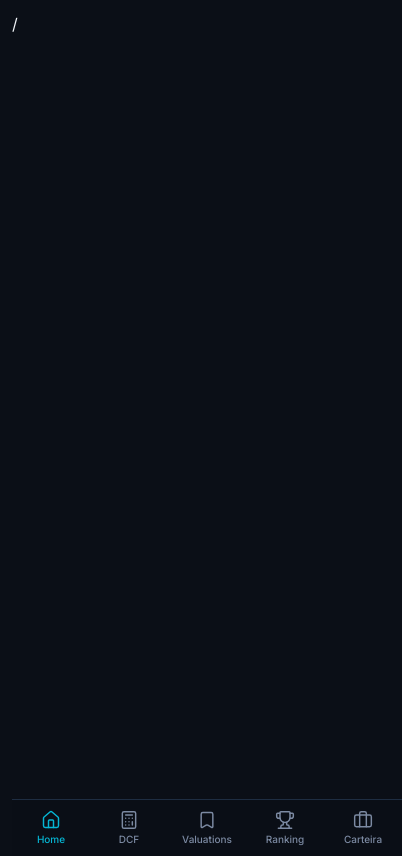
Test: BottomNav › Ranking abre o popover em vez de navegar
Expected: the link "FIIs" is not shown
Click the button "Ranking" at (285, 828), box [246,800,324,855]
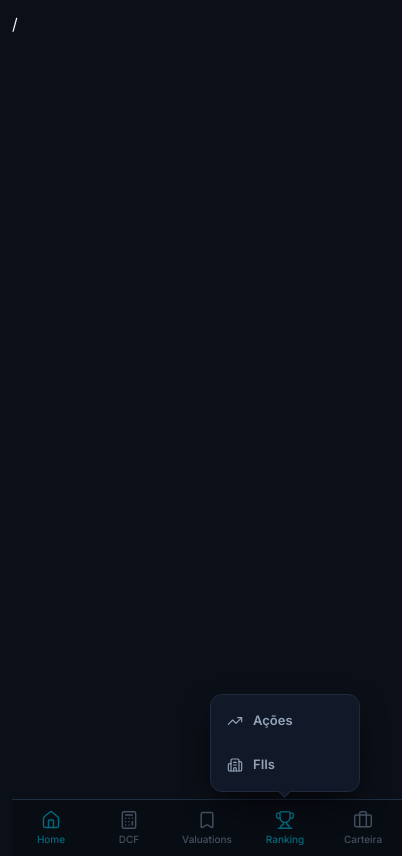
Result: the link "Ações" is shown at [227,712,293,729]
Result: the link "FIIs" is shown at [227,756,275,773]
